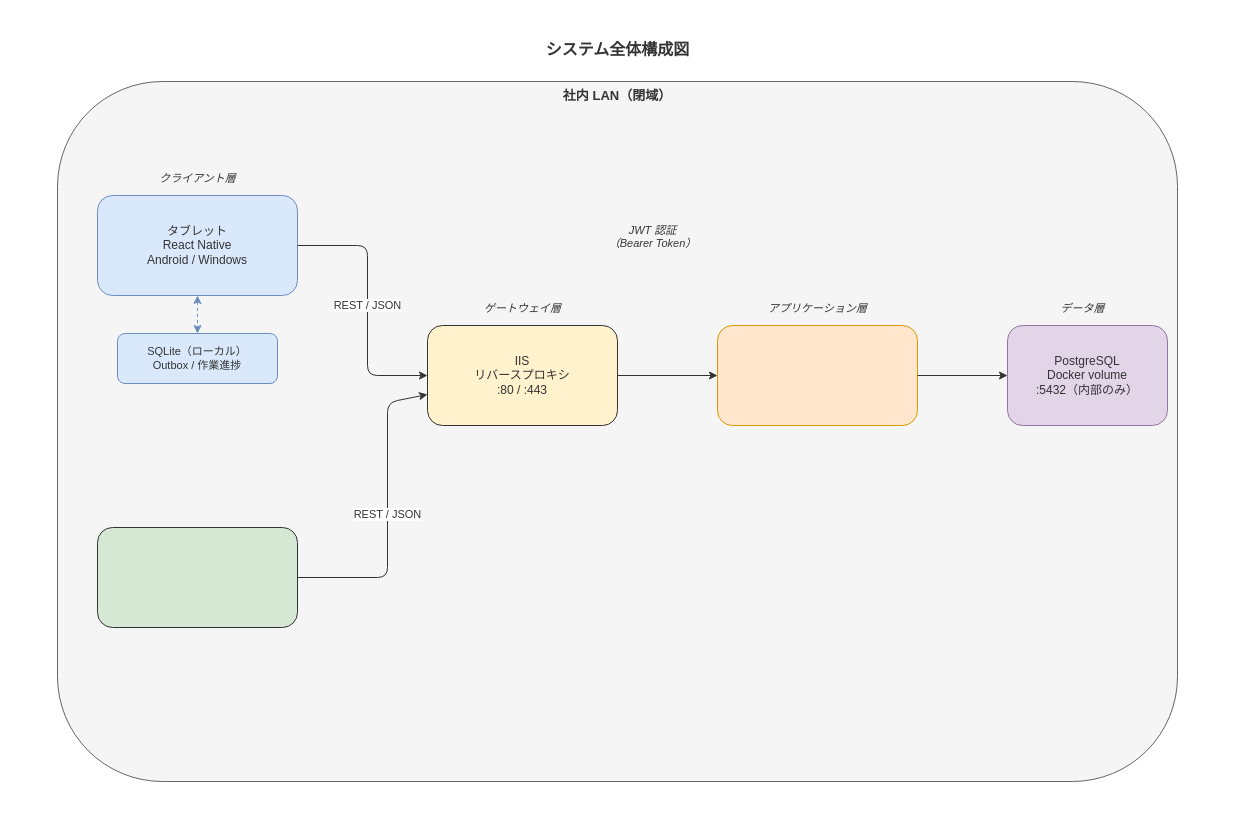
The diagram is 1234 pixels wide and 834 high, and some of its shapes have lost their labels. Here are the shapes that lost their labels. From the top down, the centre of each, then its label:
[817,375]: バックエンド Rust + axum :3000（内部）
[197,577]: Web SPA React + Vite 管理画面
